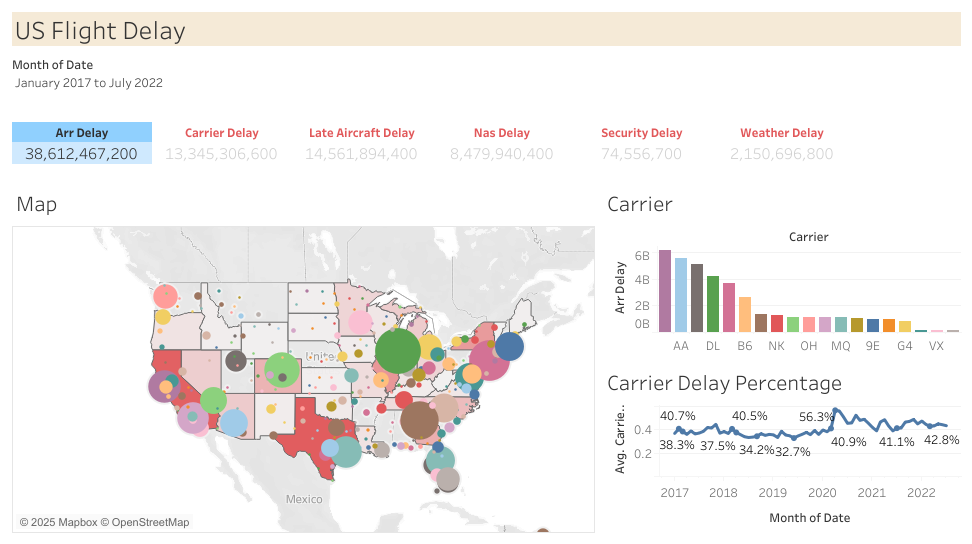

What the dashboard file says about the page in this screenshot:
{"tool":"tableau","page":{"name":"Dashboard 1","canvas":[1000,1000],"units":"permille","ordinal":0},"visuals":[{"type":"worksheet","title":"Sheet 7","mark":"Square","rows":["brand","stock_status","discount_range"],"cols":["category"],"box":[6.8,14.5,608.9,305.3]},{"type":"worksheet","title":"Sheet 1","mark":"Automatic","rows":["return_reason"],"cols":["total"],"box":[615.7,14.5,377.4,485.5]},{"type":"worksheet","title":"Sheet 4","mark":"Automatic","cols":["brand","season"],"box":[6.8,319.8,397.8,346.9]},{"type":"worksheet","title":"Sheet 6","mark":"Automatic","rows":["discount - Split 3"],"cols":["discount - Split 1"],"box":[404.6,319.8,211.1,346.9]},{"type":"worksheet","title":"Sheet 2","mark":"Automatic","rows":["return_rate_percent"],"cols":["avg_rating"],"box":[615.7,500,377.4,485.5]},{"type":"worksheet","title":"Sheet 5","mark":"Automatic","rows":["total_revenue"],"cols":["month"],"box":[6.8,666.7,608.9,318.8]}]}

Visuals, with their boxes on the dashboard's canvas, which has no fixed pixel size, in thousandths of its width and height (x1, y1, x2, y2). These are canvas units, not pixel positions in the 972x544 screenshot, which may show the page scaled, cropped or inside an application window:
"Sheet 7" worksheet (Square marks): box(7, 14, 616, 320)
"Sheet 1" worksheet: box(616, 14, 993, 500)
"Sheet 4" worksheet: box(7, 320, 405, 667)
"Sheet 6" worksheet: box(405, 320, 616, 667)
"Sheet 2" worksheet: box(616, 500, 993, 986)
"Sheet 5" worksheet: box(7, 667, 616, 986)
